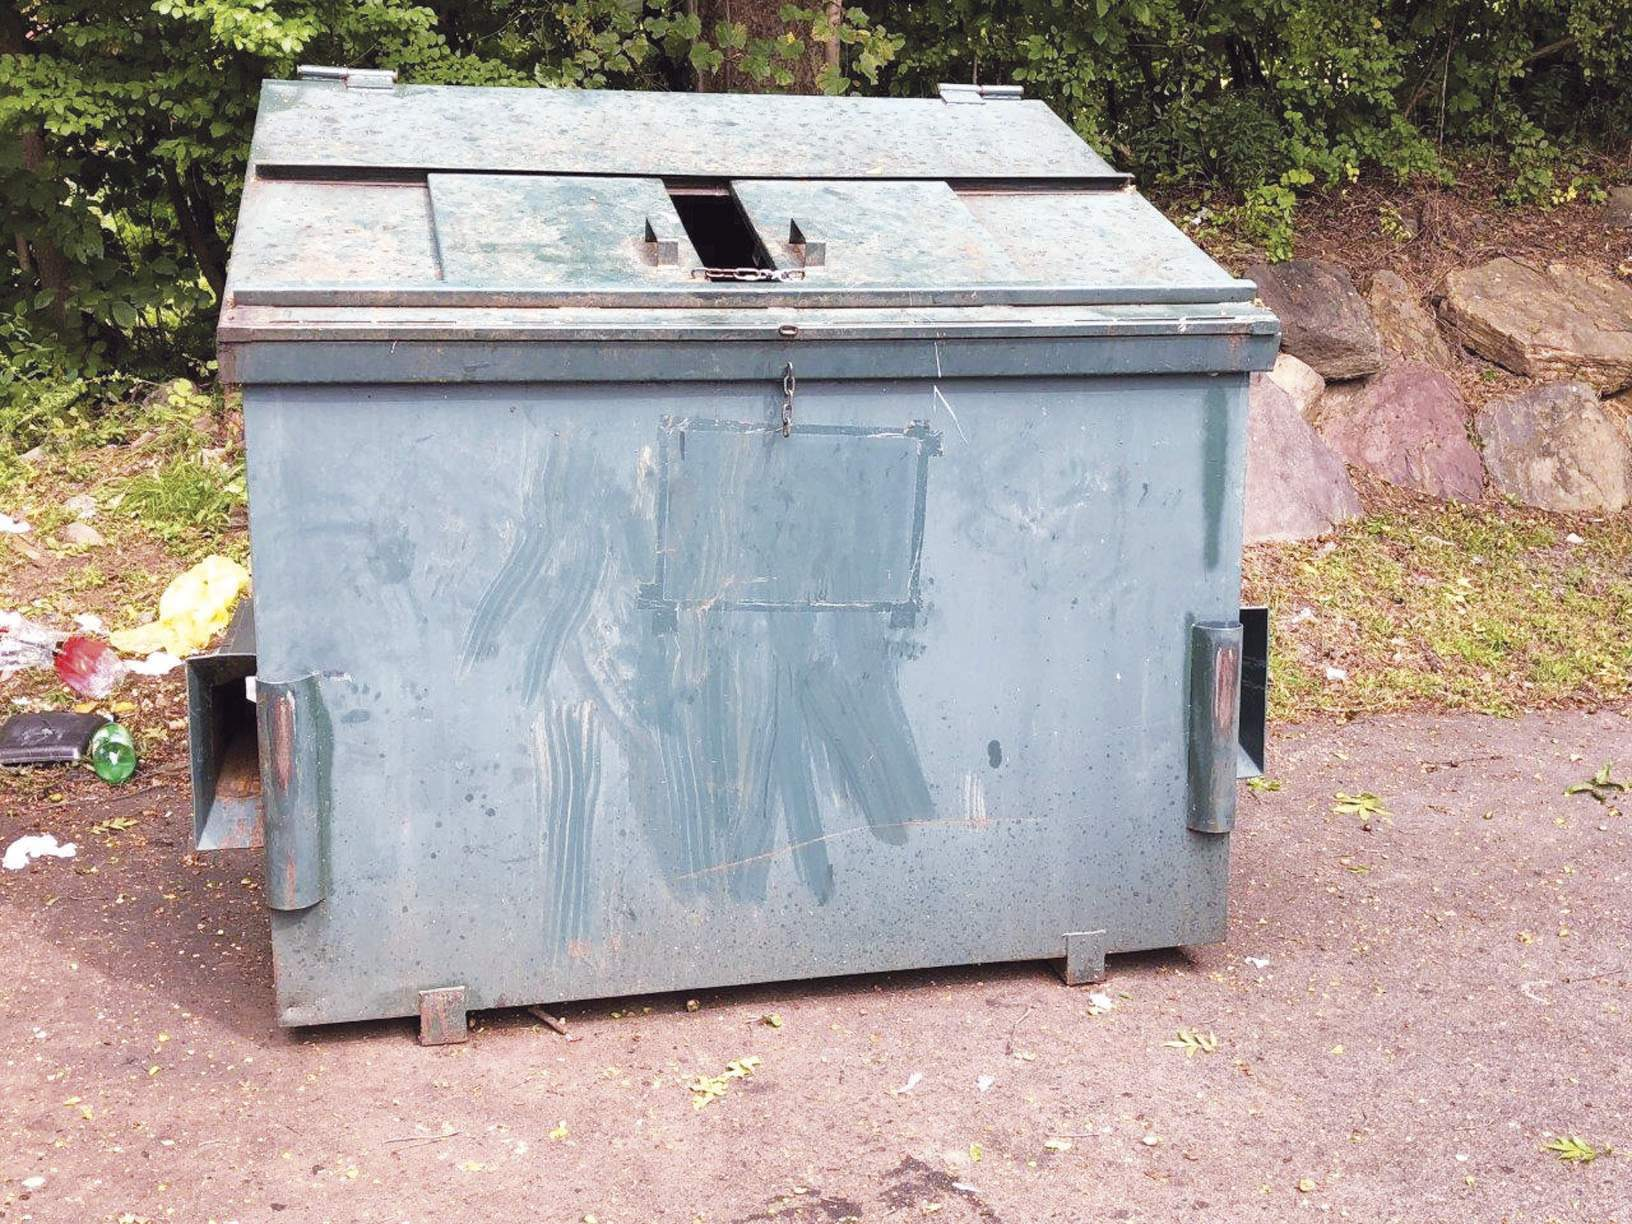Dumpster: (170, 57, 1300, 1062)
